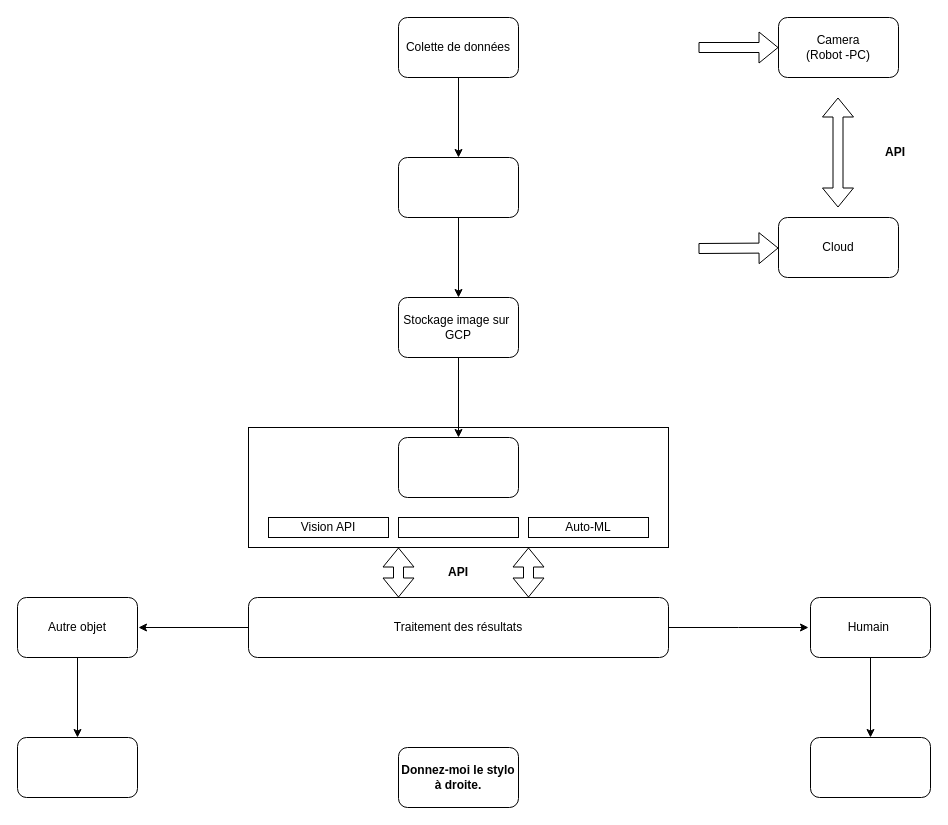
The diagram is 948 pixels wide and 825 high, and some of its shapes have lost their labels. The centre of each missing label's shape, as x and y in pixels:
Analyse image avec GC AI: point (458, 467)
Cloud Vision Ai: point (458, 527)
En quoi puisse je vous aider ?: point (870, 767)
Identifier l'object (Do nothing): point (77, 767)
Transfer vers cloud: point (458, 187)
